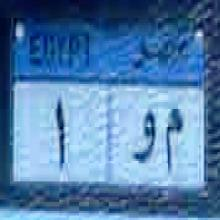1: (53, 95, 68, 168)
meem: (160, 107, 186, 174)
waw: (130, 109, 158, 164)
